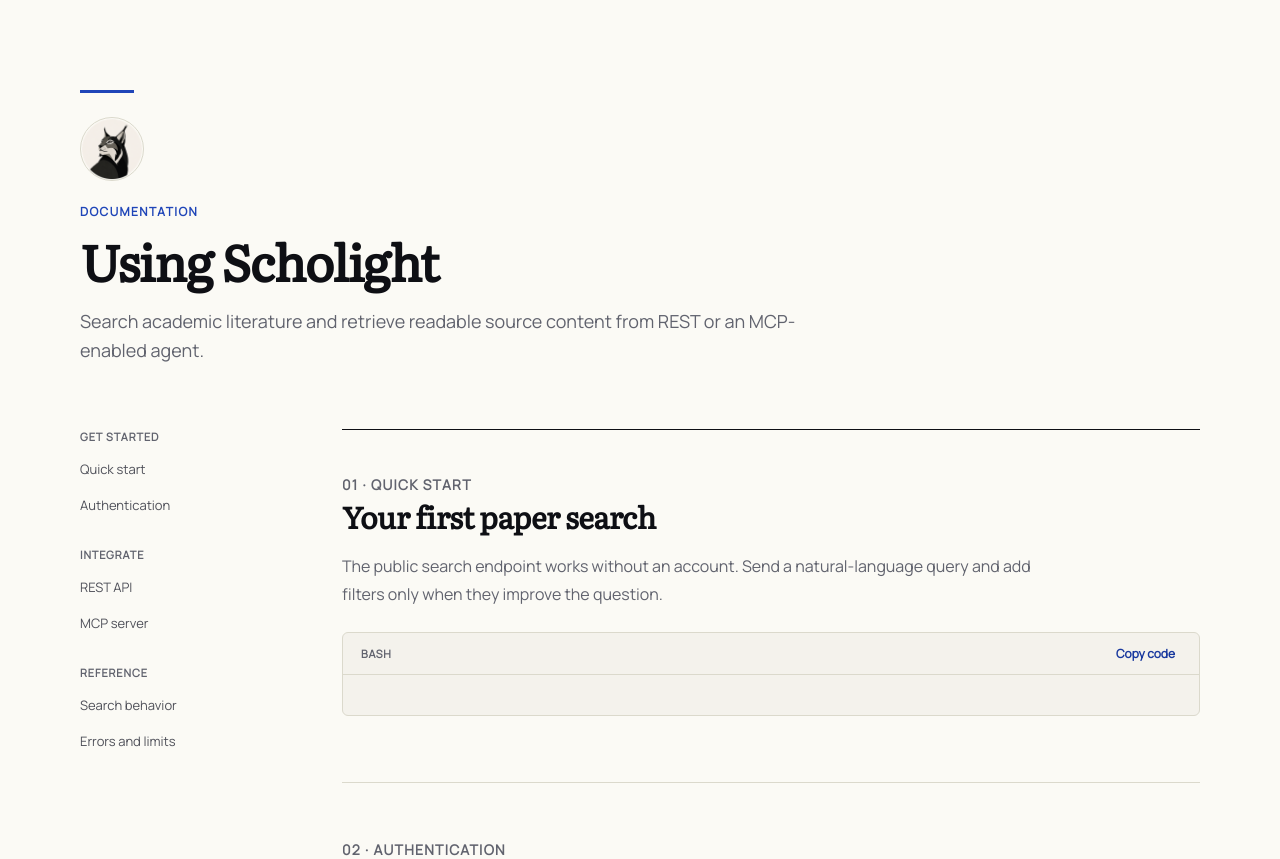
DocsPage › confirms when a code example is copied
Click the button "Copy code" at x=1146, y=653, box [1106,637,1185,669]
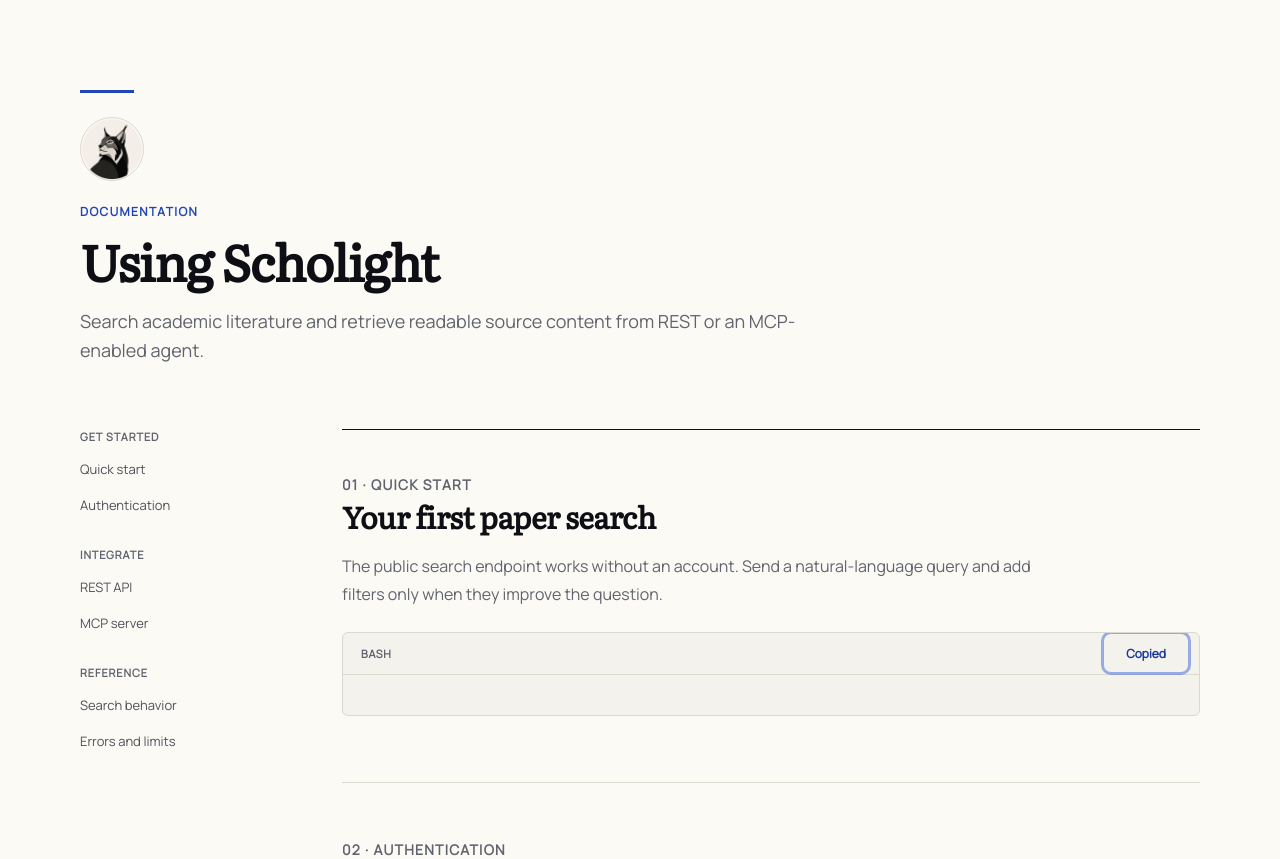
expect the button "Copied" is shown: met, box [1107,637,1185,669]
